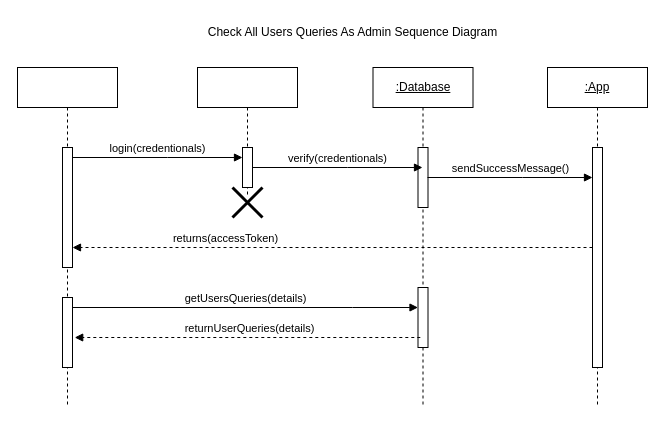
This 665x425 diagram has some shape labels left out. Each missing label, with the centre of its shape:
":Admin" goes at (67,237).
":LoginController" goes at (247,132).
